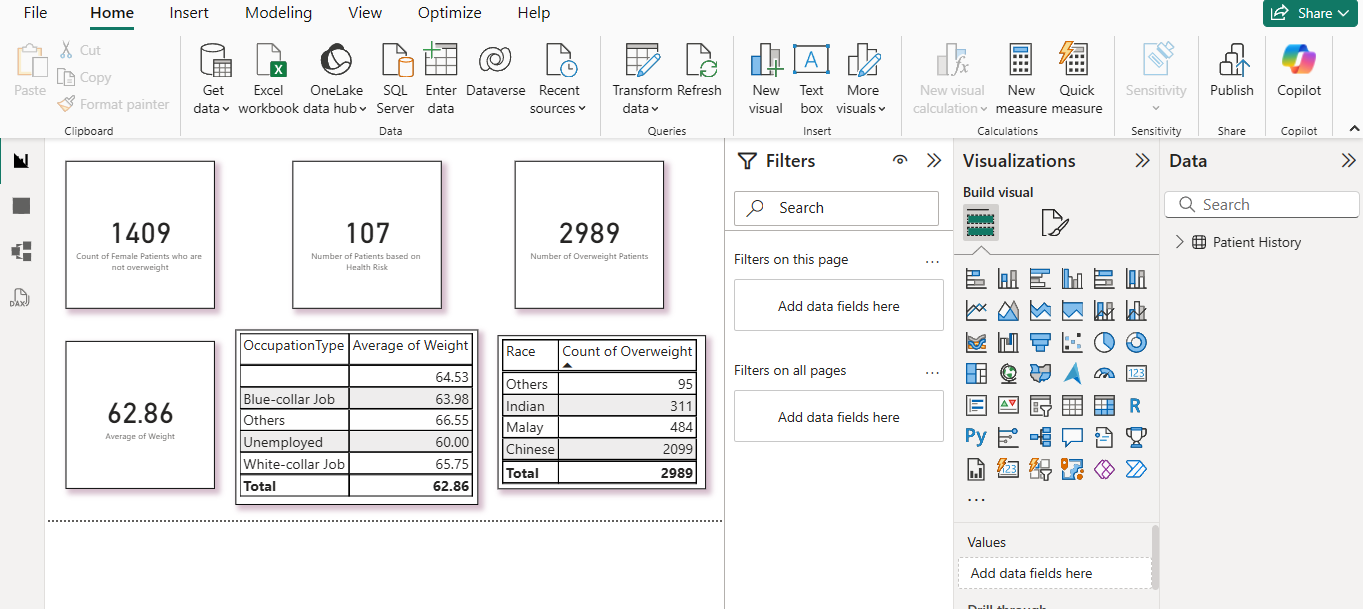

Layout of this report page (visuals, bound fields, positions):
{"tool":"powerbi","page":{"name":"Page 4","canvas":[1280,720],"ordinal":1},"visuals":[{"type":"card","fields":{"Values":["Patient History.Total Number of patient’s diagnosis"]},"box":[38.7,43,281.5,279.4],"z":0},{"type":"card","fields":{"Values":["Patient History.Total Number of patient’s diagnosis"]},"box":[466.3,43,281.5,279.4],"z":1000},{"type":"card","fields":{"Values":["Avg(Patient History.Weight)"]},"box":[38.7,382.5,281.5,279.4],"z":1001},{"type":"tableEx","fields":{"Values":["Patient History.OccupationType","Avg(Patient History.Weight)"]},"box":[358.9,361,457.7,330.9],"z":1002},{"type":"card","fields":{"Values":["Patient History.Total Number of patient’s diagnosis"]},"box":[885.4,43,281.5,279.4],"z":1003},{"type":"tableEx","fields":{"Values":["Patient History.Race","Patient History.Total Number of patient’s diagnosis"]},"box":[853.1,371.8,393.3,290.1],"z":1004}]}

Visuals, with their boxes on the page's 1280x720 design canvas (x1, y1, x2, y2). These are canvas units, not pixel positions in the 1363x609 screenshot, which may show the page scaled, cropped or inside an application window:
card - Patient History.Total Number of patient’s diagnosis: {"left": 39, "top": 43, "right": 320, "bottom": 322}
card - Patient History.Total Number of patient’s diagnosis: {"left": 466, "top": 43, "right": 748, "bottom": 322}
card - Avg(Patient History.Weight): {"left": 39, "top": 382, "right": 320, "bottom": 662}
tableEx - Patient History.OccupationType x Avg(Patient History.Weight): {"left": 359, "top": 361, "right": 817, "bottom": 692}
card - Patient History.Total Number of patient’s diagnosis: {"left": 885, "top": 43, "right": 1167, "bottom": 322}
tableEx - Patient History.Race x Patient History.Total Number of patient’s diagnosis: {"left": 853, "top": 372, "right": 1246, "bottom": 662}
